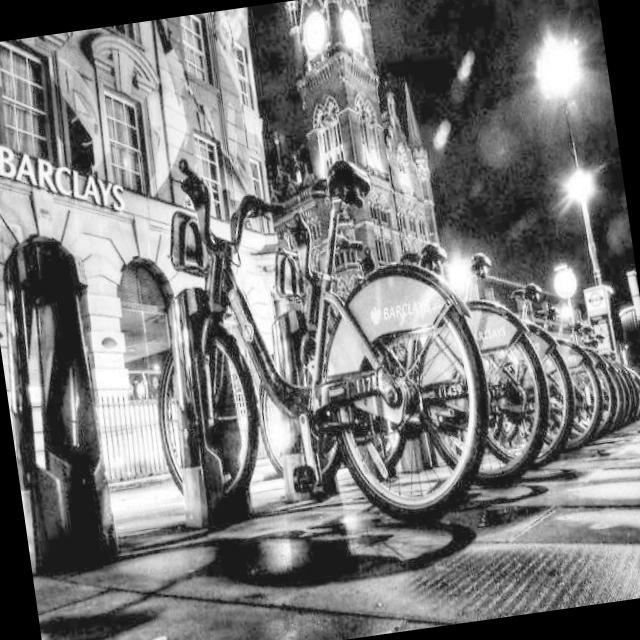Bicycle: (133, 90, 493, 554), (383, 166, 558, 497), (482, 255, 580, 470), (547, 290, 616, 458), (579, 294, 640, 440)
